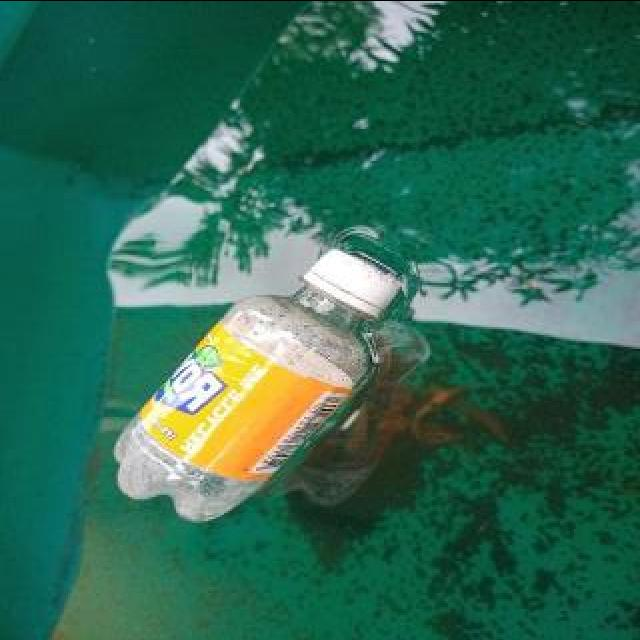Bottle: (112, 244, 412, 524)
